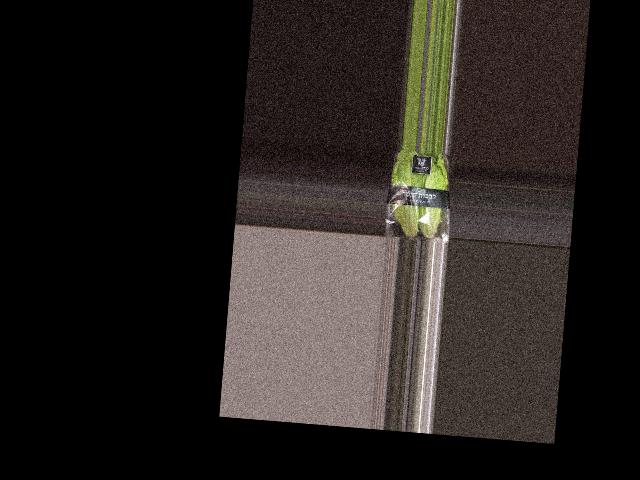lettuce: (388, 150, 455, 243)
